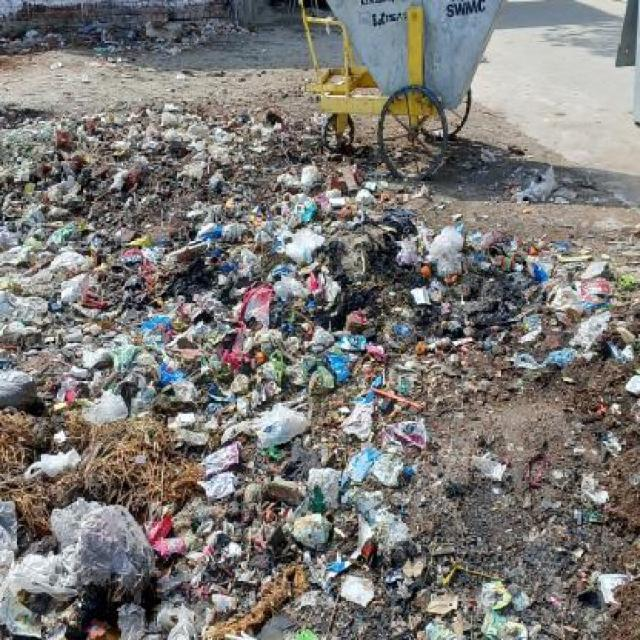garbage: (5, 95, 318, 640), (323, 146, 639, 640), (5, 0, 268, 97)
